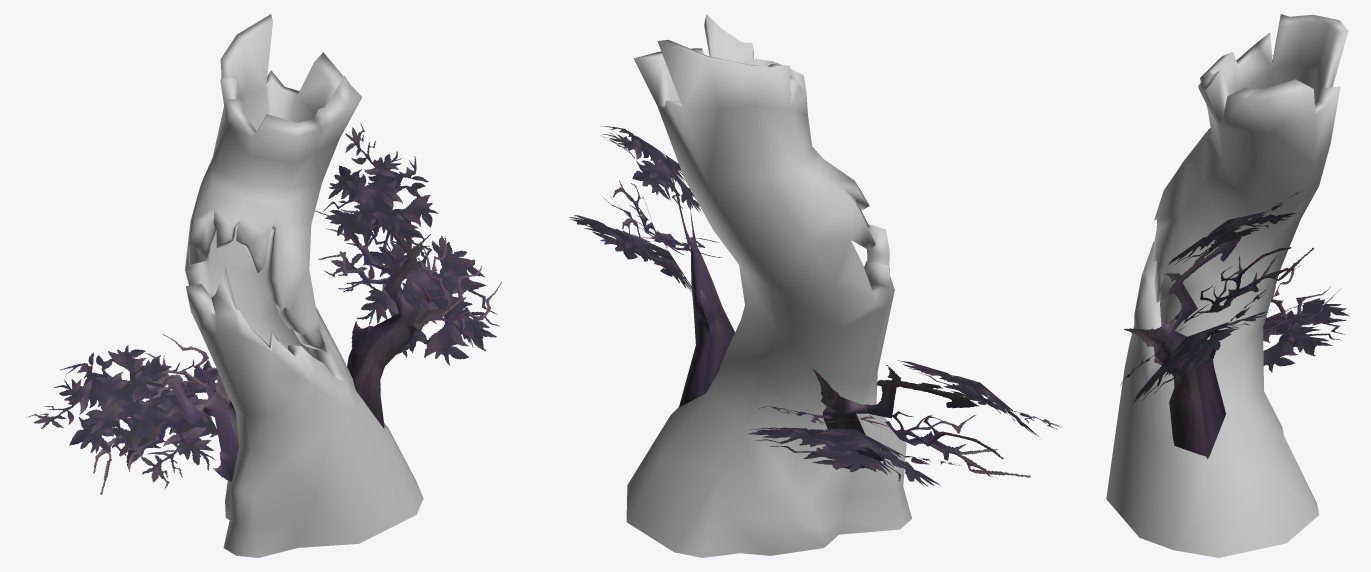
The model's file is TwistedJungle_Tree01.FBX.
3 renders of one model, left to right at view 1: azimuth 30°, elevation 25°; view 2: azimuth 150°, elevation 25°; view 3: azimuth 270°, elevation 25°, orthographic. The views are drawn at different scales.
Visible parts, largest first — view 1: TwistedJungle_Tree01; view 2: TwistedJungle_Tree01; view 3: TwistedJungle_Tree01.
Part boxes in pixels (bbox=[...]): TwistedJungle_Tree01: bbox=[26, 14, 501, 557]; TwistedJungle_Tree01: bbox=[569, 14, 1061, 557]; TwistedJungle_Tree01: bbox=[1106, 14, 1349, 557].
Size of the model in its own units: 460 by 432 by 203.
